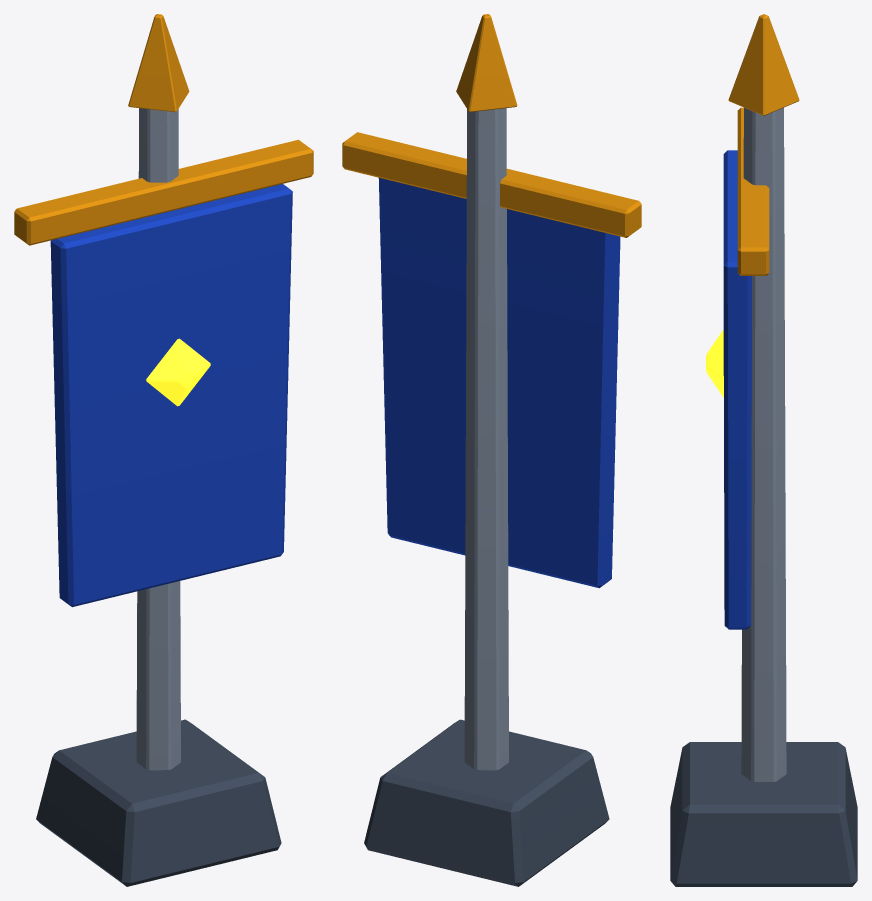
File: banner.glb
The picture shows the model from 3 angles, left to right: view 1: azimuth 30°, elevation 25°; view 2: azimuth 150°, elevation 25°; view 3: azimuth 270°, elevation 25°; orthographic projection.
Parts seen in each view (by area): view 1: banner; view 2: banner; view 3: banner.
Boxes of the visible parts, box(x1,y1,x2,y2) form: banner: box(14, 14, 313, 886); banner: box(342, 14, 641, 886); banner: box(670, 14, 857, 886).
Size of the model in its own units: 0.64 by 1.75 by 0.356.
